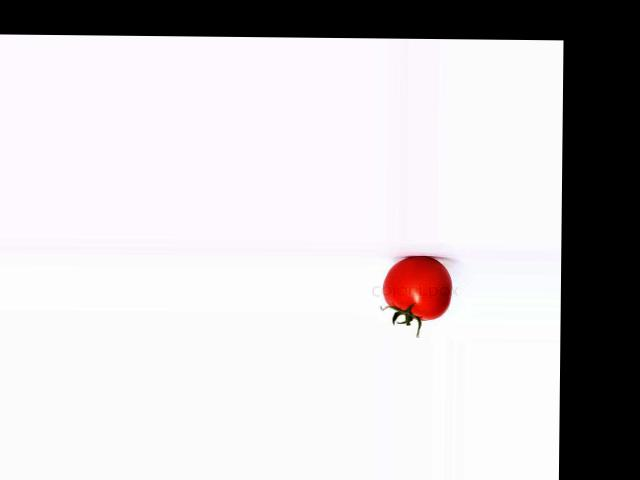tomato: (383, 256, 452, 320)
